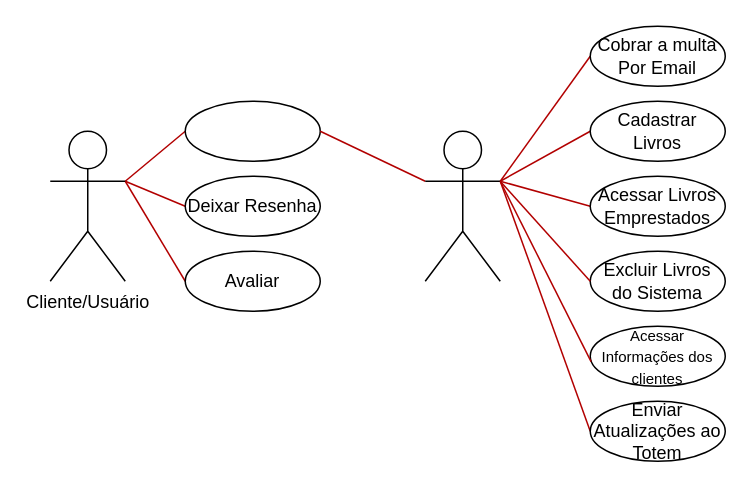
This 752x489 diagram has some shape labels left out. The box of each missing label's shape, as (x1, y1, x2, y2) in pixels:
Bibliotecario: (424, 130, 500, 281)
Procurar Livros: (184, 100, 320, 161)
